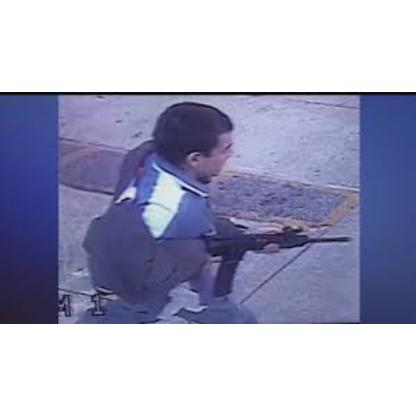gun: (166, 224, 348, 294)
